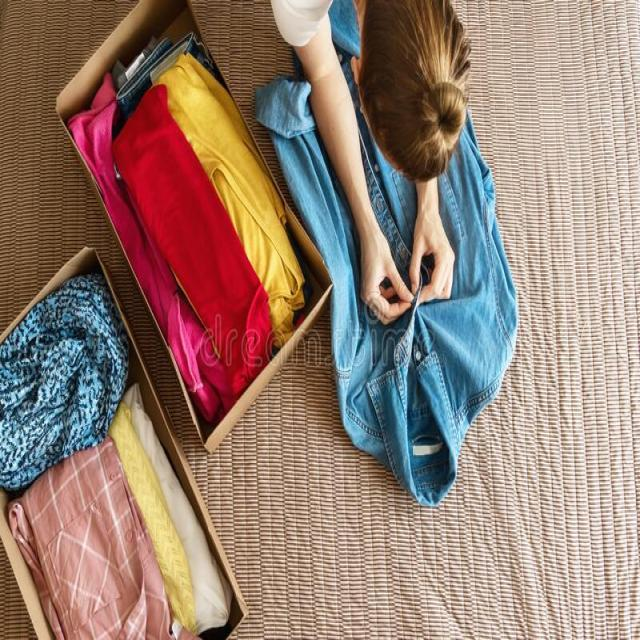clothes: (85, 86, 318, 384)
